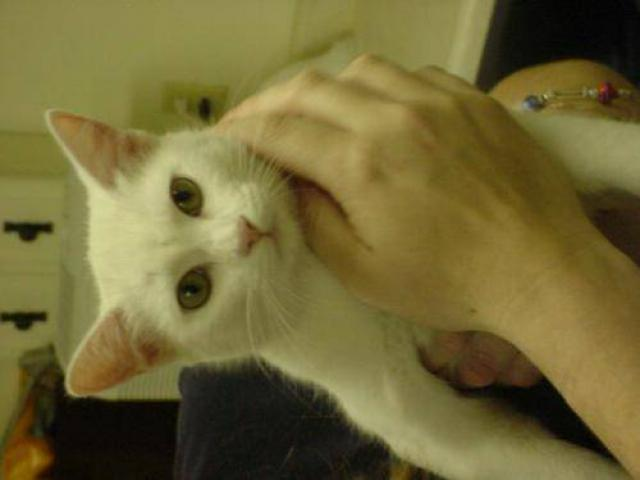cat: (27, 81, 640, 466)
